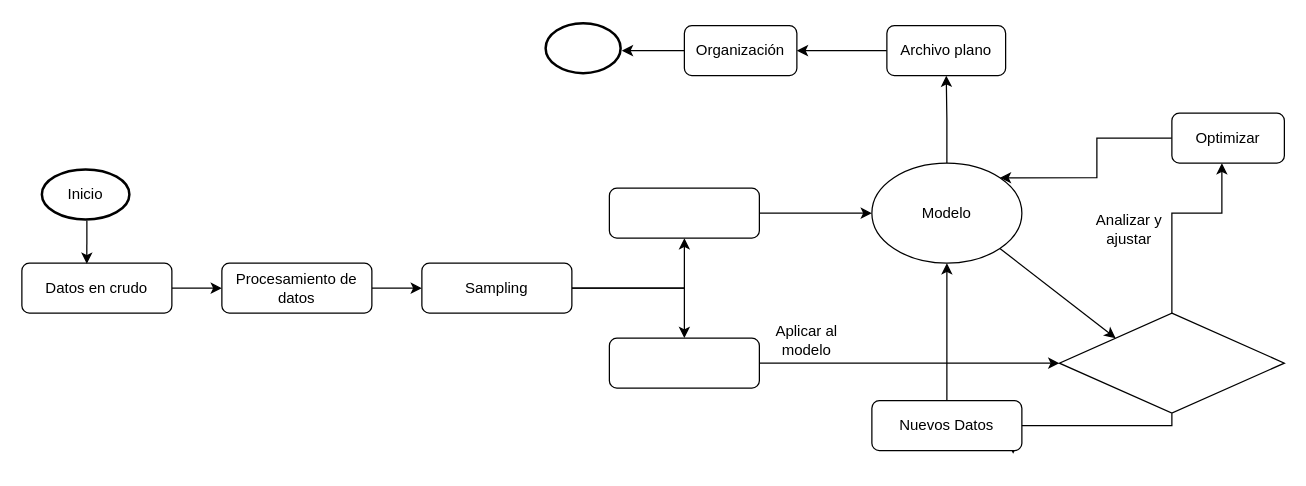
Image size: 1306x486. Some labels were removed from this diagram. Here are the shapes that lost their labels. From the top down, the centre of each, then its label:
(582,47): Fin
(683,212): Datos de Prueba
(683,362): Datos de validación
(1171,362): Validación
